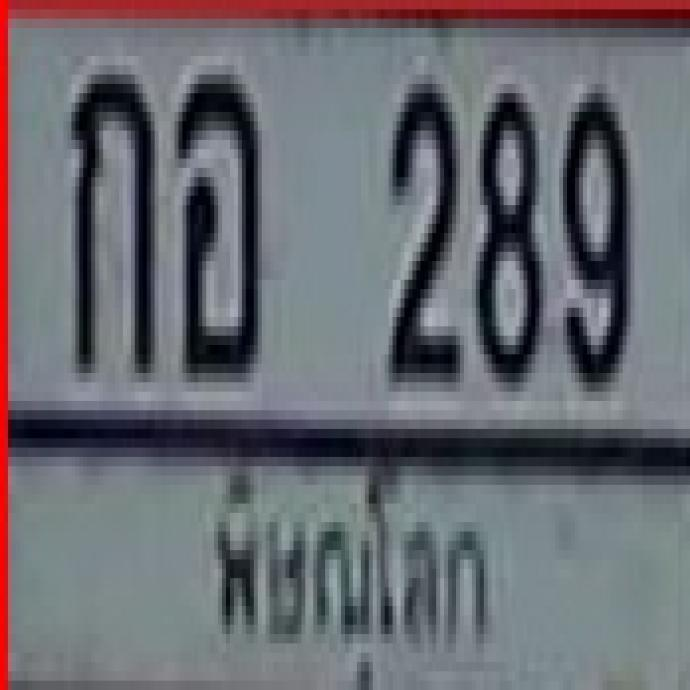2: (385, 74, 454, 371)
8: (472, 82, 536, 374)
9: (560, 83, 625, 380)
A01: (67, 64, 149, 364)
A43: (173, 66, 255, 367)
PLK: (198, 452, 504, 686)
